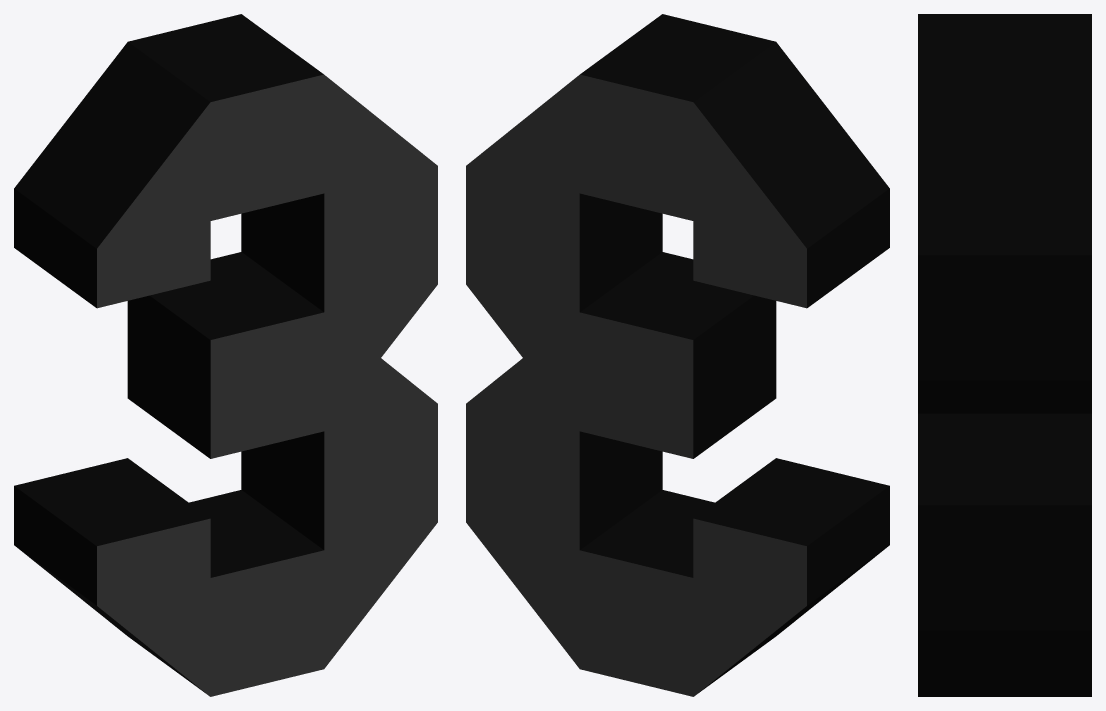
3 views of the same model, side by side, from view 1: azimuth 30°, elevation 25°; view 2: azimuth 150°, elevation 25°; view 3: azimuth 270°, elevation 25° (orthographic). The views are drawn at different scales.
Visible parts, largest first — view 1: 3_DeltaBlock_Black; view 2: 3_DeltaBlock_Black; view 3: 3_DeltaBlock_Black.
Boxes of the visible parts, <box> form: 3_DeltaBlock_Black: <box>14,14,437,696</box>; 3_DeltaBlock_Black: <box>466,14,889,696</box>; 3_DeltaBlock_Black: <box>918,14,1091,696</box>.
Size of what is drawn, in the model's own units: 0.1071 by 0.1786 by 0.045.
Materials: 2 (2 with a texture image).
